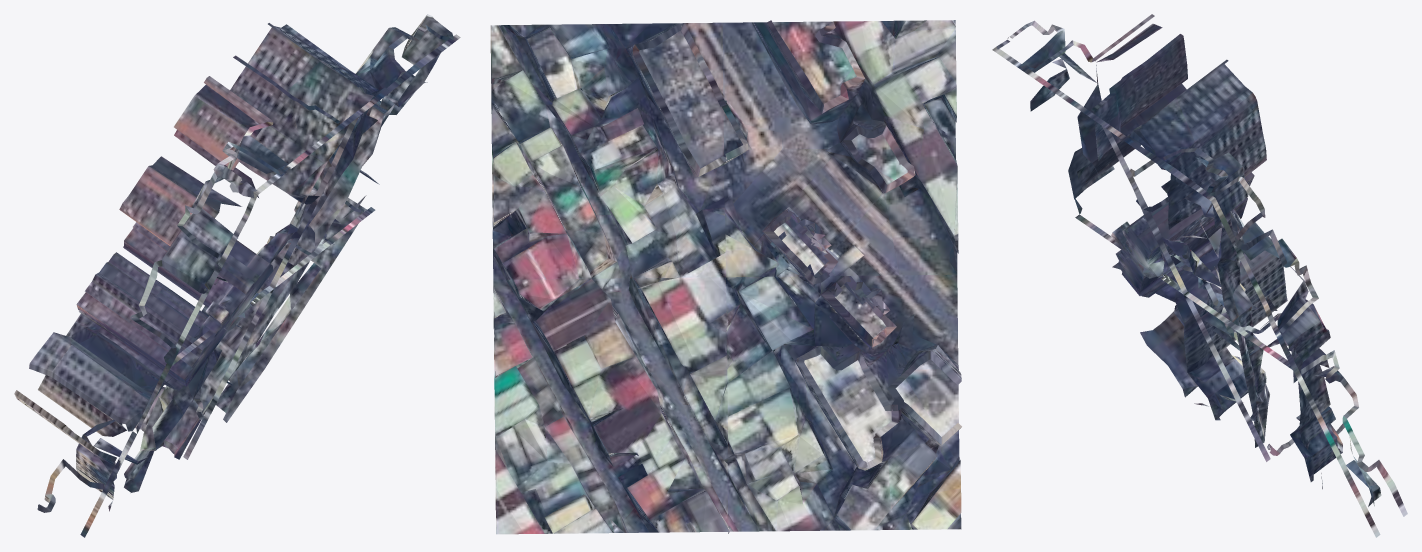
3 views of the same model, side by side, from view 1: azimuth 30°, elevation 25°; view 2: azimuth 150°, elevation 25°; view 3: azimuth 270°, elevation 25° (orthographic). The views are drawn at different scales.
Bounding box in the file's own units: 166 × 157 × 137.
Materials: 2 (2 with a texture image).
